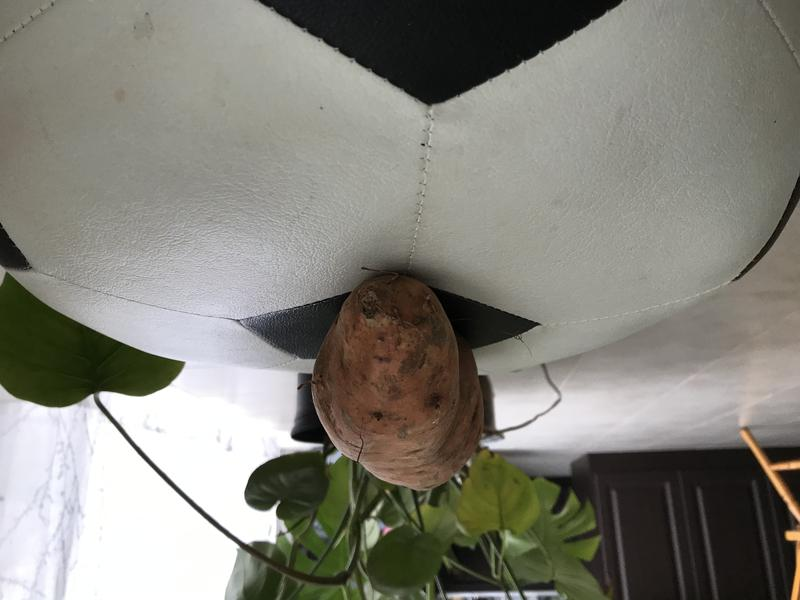sweet_potato: (304, 260, 501, 513)
